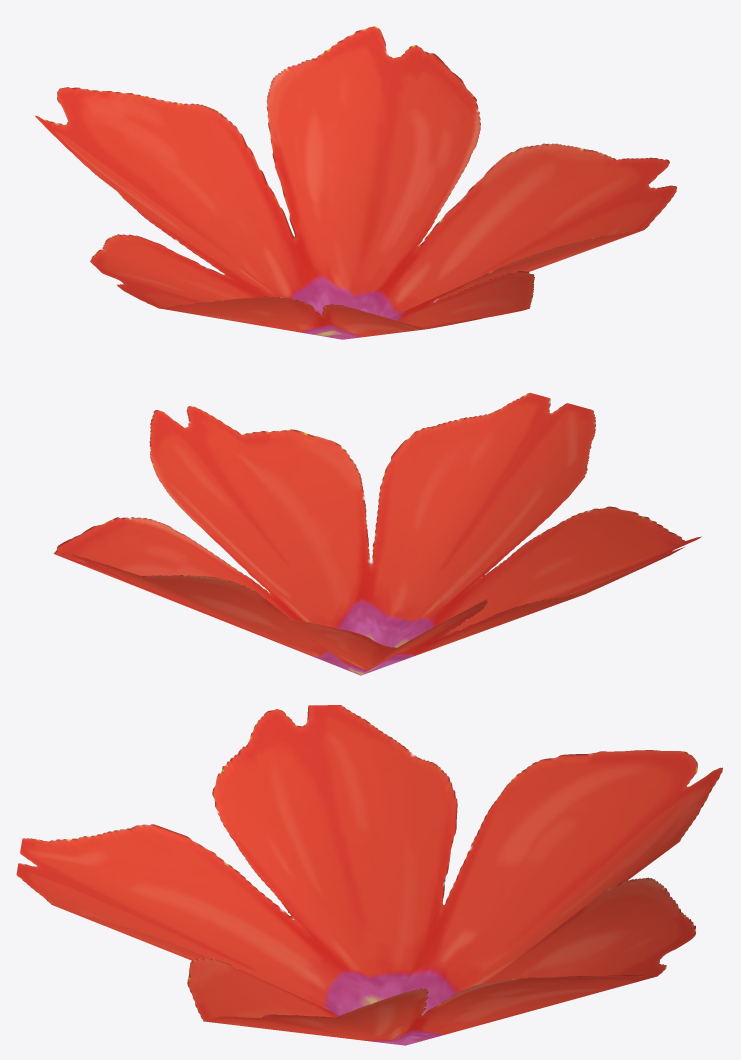
File: petal_3.glb
3 renders of one model, top to bottom at view 1: azimuth 30°, elevation 25°; view 2: azimuth 150°, elevation 25°; view 3: azimuth 270°, elevation 25°, orthographic. The views are drawn at different scales.
Visible parts, largest first — view 1: Petal_3; view 2: Petal_3; view 3: Petal_3.
Part boxes in pixels (bbox=[...]): Petal_3: bbox=[35, 26, 676, 339]; Petal_3: bbox=[53, 392, 701, 675]; Petal_3: bbox=[16, 705, 722, 1045].
Bounding box in the file's own units: 0.6195 × 0.1895 × 0.6064.
Materials: 1 (1 with a texture image).
